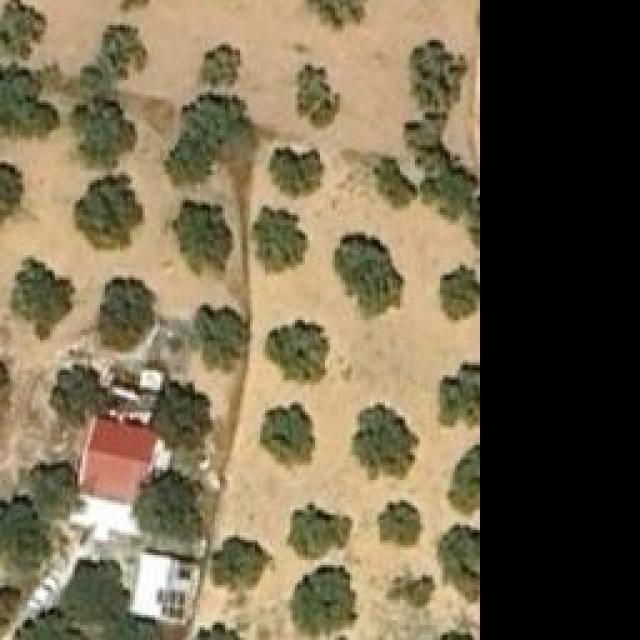Tree: (335, 233, 405, 313), (348, 403, 418, 483), (58, 558, 128, 633), (170, 100, 235, 180), (13, 258, 73, 341), (75, 175, 143, 248), (135, 470, 203, 543), (288, 565, 358, 635), (173, 200, 233, 275), (97, 275, 155, 350), (0, 65, 55, 140), (265, 320, 330, 383), (73, 105, 133, 168), (253, 208, 308, 273), (260, 403, 315, 468), (0, 498, 48, 571), (153, 383, 206, 448), (290, 503, 350, 558), (438, 523, 478, 603), (295, 65, 340, 130), (193, 305, 238, 370), (435, 362, 478, 430), (53, 365, 103, 423), (415, 43, 460, 106), (270, 145, 323, 198), (97, 22, 145, 80), (0, 610, 85, 640), (217, 540, 265, 593), (30, 460, 78, 513), (438, 263, 478, 323), (388, 563, 438, 608), (373, 157, 418, 205), (448, 445, 478, 515), (0, 3, 38, 56), (378, 503, 421, 546), (308, 0, 373, 28), (203, 43, 243, 88), (0, 163, 25, 228), (185, 622, 250, 640)
